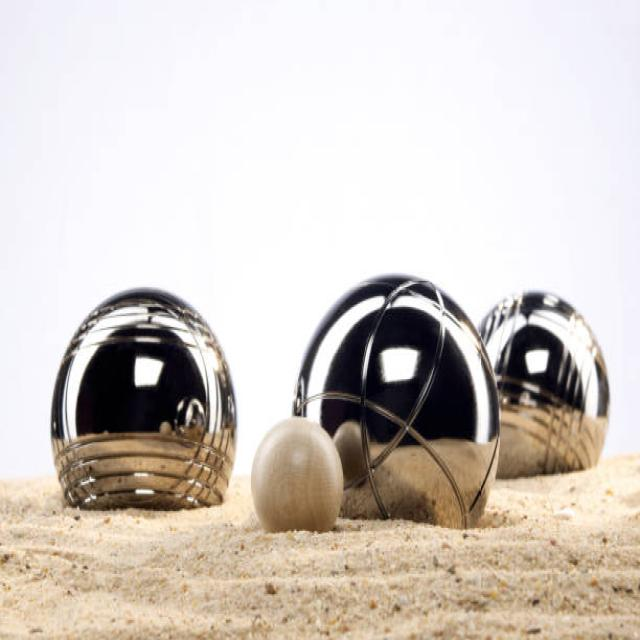hatball: (244, 408, 353, 544)
petanque: (292, 270, 506, 536), (48, 282, 238, 538), (468, 284, 616, 482)
